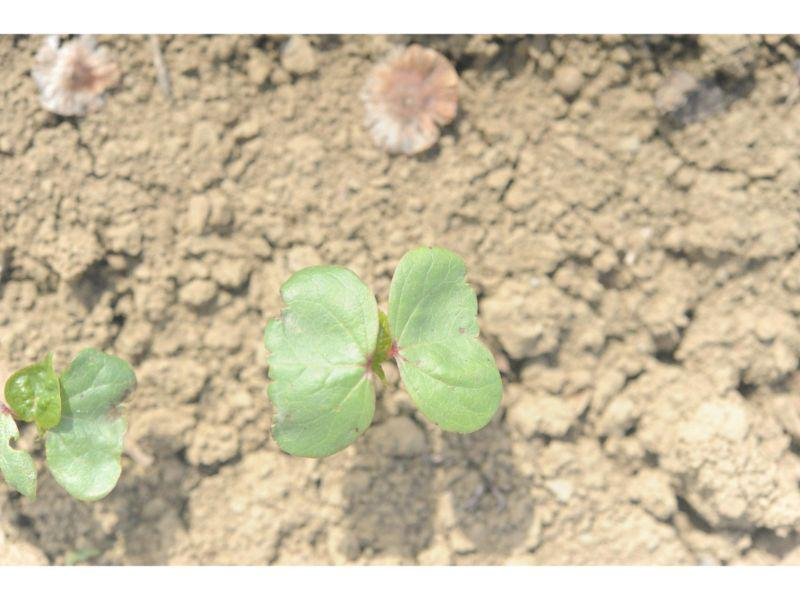cotton: (264, 243, 503, 460), (3, 349, 138, 503)
